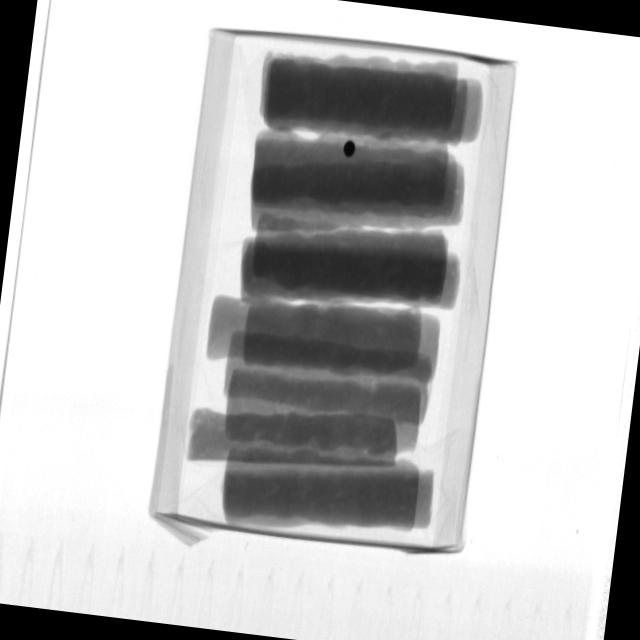ym: (342, 139, 357, 158)
